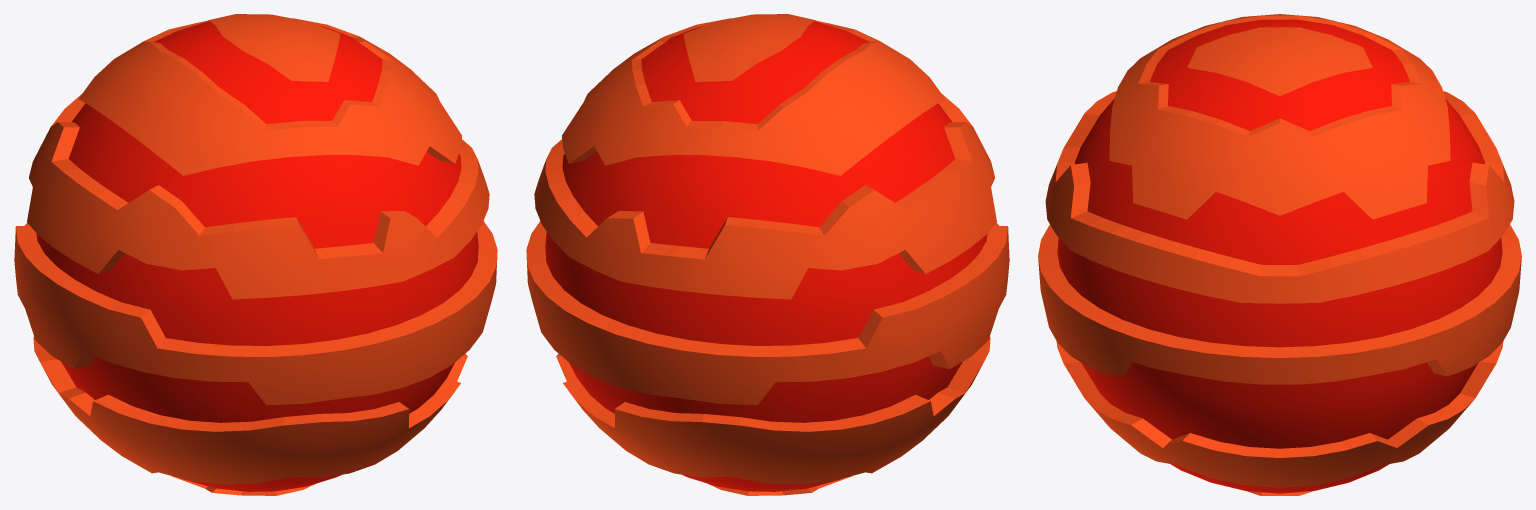
The model's file is Funny gas giant.FBX.
3 renders of one model, left to right at view 1: azimuth 30°, elevation 25°; view 2: azimuth 150°, elevation 25°; view 3: azimuth 270°, elevation 25°, orthographic.
Parts seen in each view (by area): view 1: GeoSphere007; view 2: GeoSphere007; view 3: GeoSphere007.
Part boxes in pixels (<box>): GeoSphere007: <box>14,14,497,495</box>; GeoSphere007: <box>526,14,1009,495</box>; GeoSphere007: <box>1038,14,1521,495</box>.
Bounding box in the file's own units: 205 × 205 × 205.
